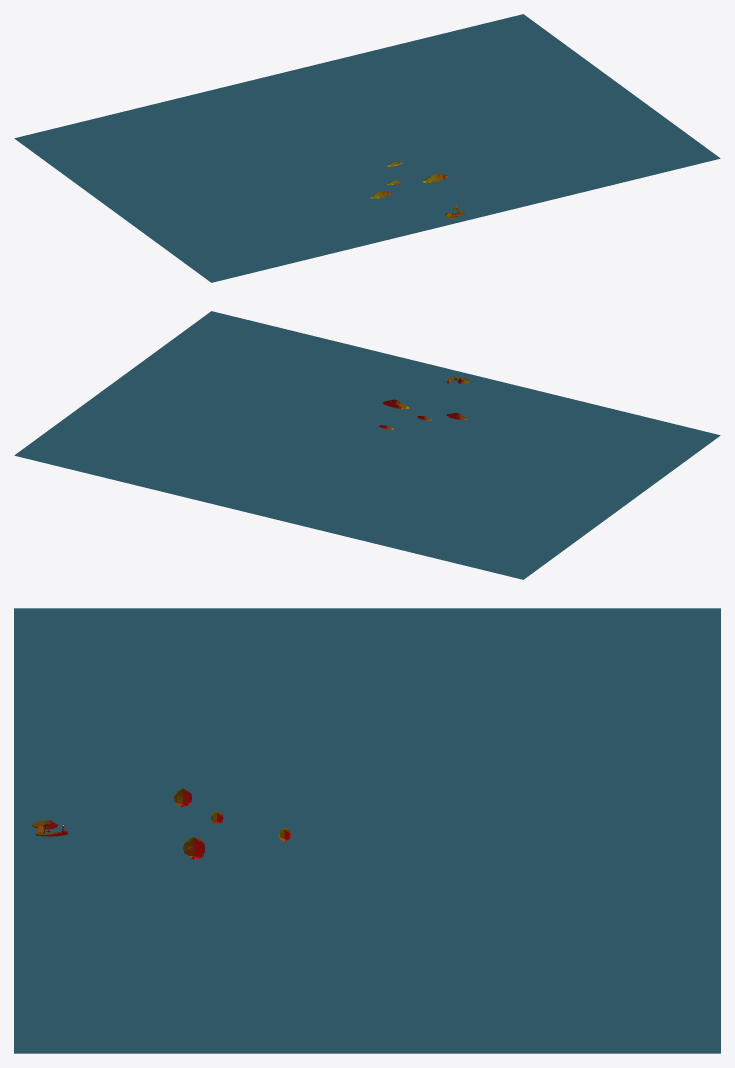
Rendered from harbor_n64.glb.
3 renders of one model, top to bottom at view 1: azimuth 30°, elevation 25°; view 2: azimuth 150°, elevation 25°; view 3: azimuth 270°, elevation 25°, orthographic. The views are drawn at different scales.
Parts seen in each view (by area): view 1: Sea; view 2: Sea; view 3: Sea, IslandsFar.
Boxes of the visible parts, left/top/right/bottom form: Sea: left=14, top=14, right=720, bottom=282; Sea: left=14, top=311, right=720, bottom=579; Sea: left=14, top=608, right=720, bottom=1053; IslandsFar: left=174, top=788, right=290, bottom=859.
Bounding box in the file's own units: 1400 × 18.2 × 940.
